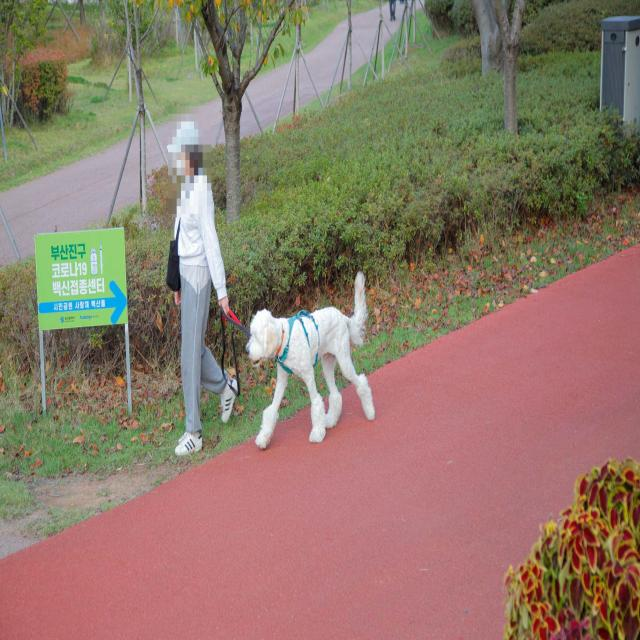Leashed_Dog: (203, 272, 375, 449)
